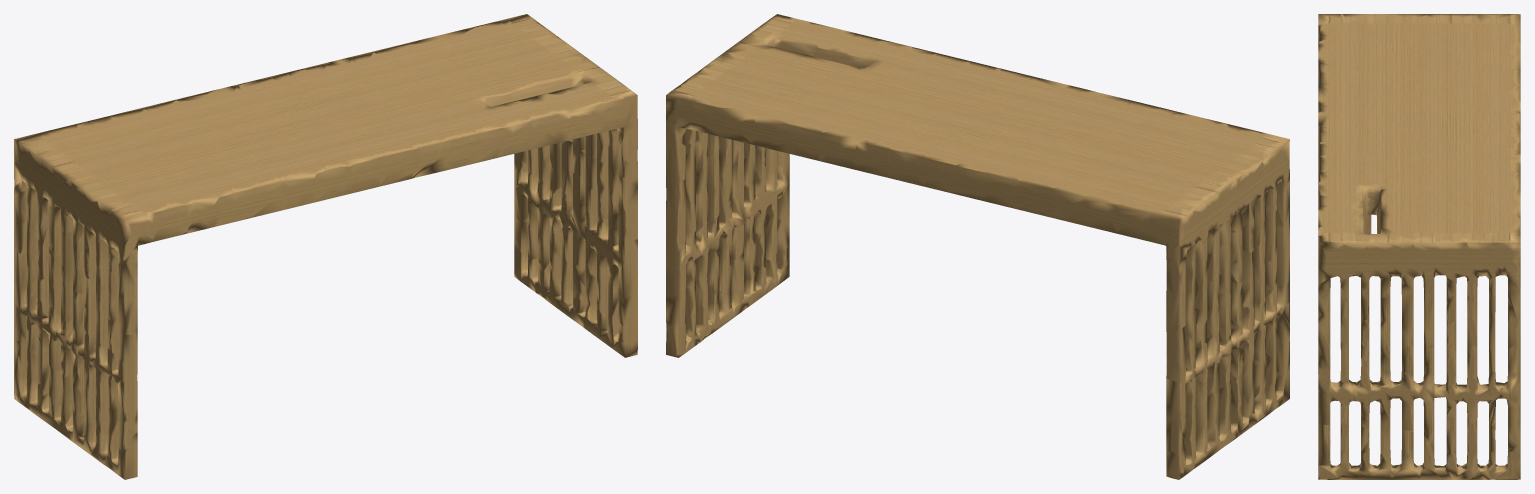
The model's file is Desk Slate Design.glb.
3 views of the same model, side by side, from view 1: azimuth 30°, elevation 25°; view 2: azimuth 150°, elevation 25°; view 3: azimuth 270°, elevation 25° (orthographic). The views are drawn at different scales.
Parts seen in each view (by area): view 1: Mesh_0.001; view 2: Mesh_0.001; view 3: Mesh_0.001.
Boxes of the visible parts, x1,y1,x2,y2 form: Mesh_0.001: (14, 14, 637, 479); Mesh_0.001: (666, 14, 1289, 479); Mesh_0.001: (1318, 14, 1520, 479).
Size of the model in its own units: 1.55 by 0.7499 by 0.5792.
Materials: 1 (1 with a texture image).
